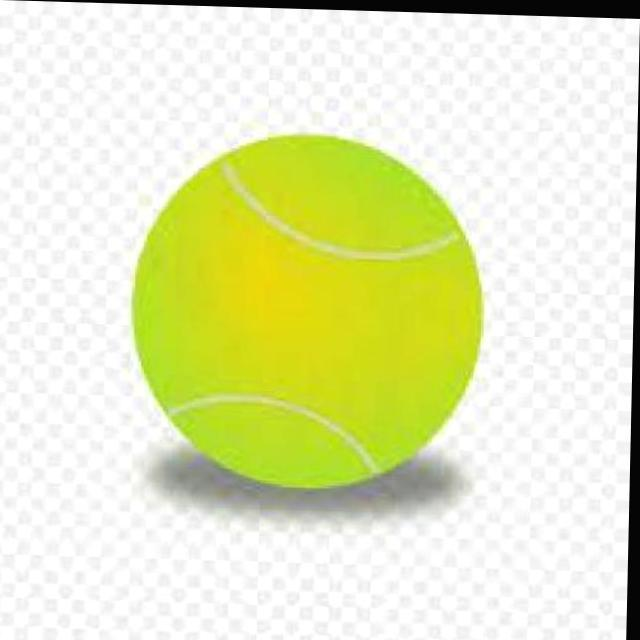-: (132, 136, 490, 502)
